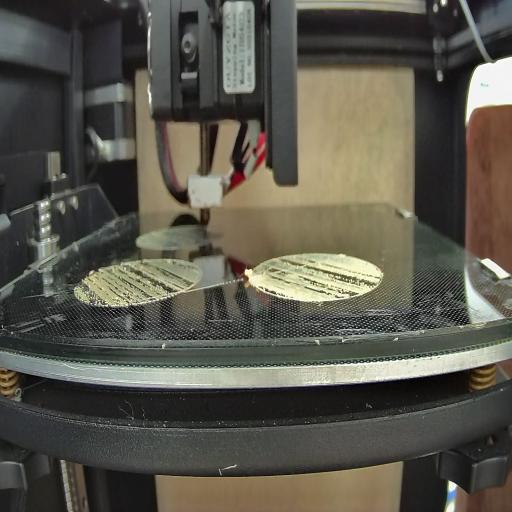under_extrusion: (258, 256, 382, 297), (76, 264, 194, 303)
